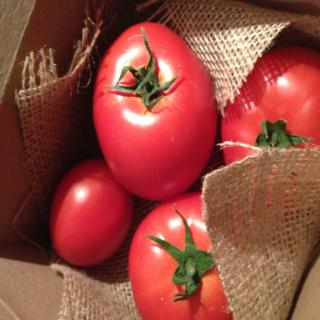tomato: (92, 22, 215, 200), (128, 192, 238, 320), (220, 43, 318, 164), (50, 158, 136, 271)
